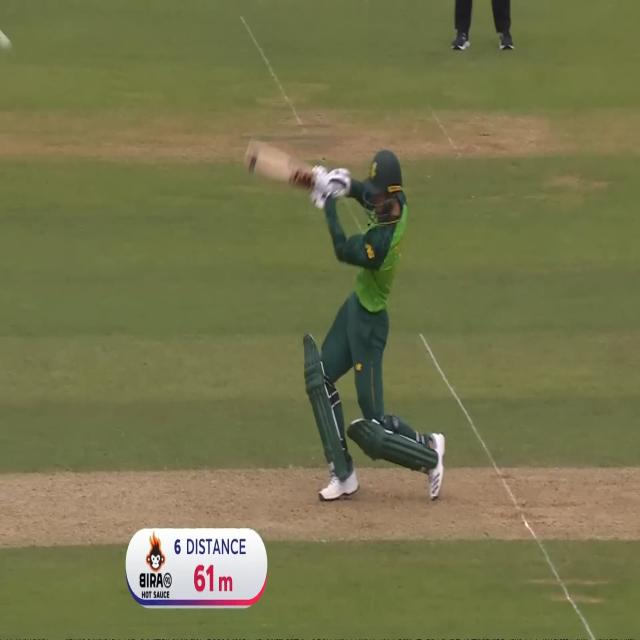ball: (2, 28, 15, 58)
